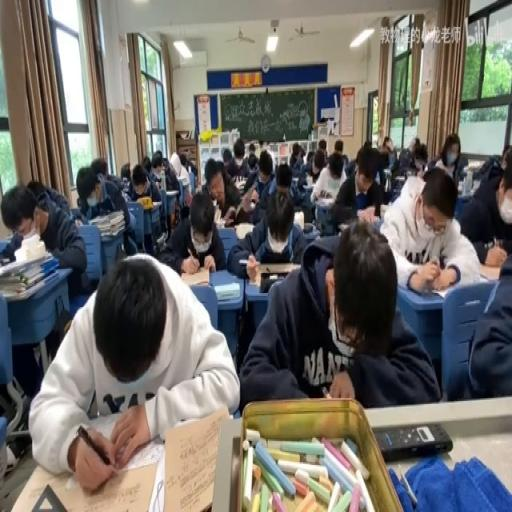calculator: (16, 456, 156, 512), (85, 407, 162, 469), (245, 259, 299, 289), (145, 448, 164, 512), (428, 276, 474, 297), (180, 266, 210, 286), (213, 282, 241, 300), (478, 262, 502, 282), (234, 222, 252, 240), (0, 236, 13, 256), (234, 175, 246, 192), (293, 210, 303, 230), (468, 180, 480, 194), (213, 205, 222, 222), (176, 174, 189, 184), (150, 198, 162, 206), (166, 189, 178, 196), (305, 176, 313, 186), (394, 174, 406, 180), (74, 216, 82, 225), (290, 176, 298, 184), (238, 258, 249, 263)
paper: (30, 250, 238, 488), (242, 218, 436, 406), (381, 164, 481, 288), (1, 178, 86, 300), (454, 245, 512, 401), (228, 181, 309, 273), (76, 160, 134, 264), (161, 189, 224, 276), (338, 142, 386, 229), (126, 161, 164, 239), (310, 145, 348, 208), (428, 132, 462, 181), (223, 138, 251, 181), (472, 154, 502, 180), (385, 142, 403, 182), (234, 192, 256, 222), (273, 159, 291, 191), (290, 141, 306, 176), (411, 142, 427, 171), (26, 179, 46, 202), (258, 151, 274, 179), (90, 156, 108, 180), (150, 148, 164, 176), (352, 146, 363, 178), (120, 162, 130, 189), (500, 148, 510, 175), (246, 152, 258, 174), (187, 158, 197, 179), (142, 154, 152, 172), (178, 152, 187, 172), (382, 136, 392, 154), (120, 184, 130, 200), (334, 138, 343, 155), (260, 141, 270, 156), (318, 138, 326, 155), (306, 149, 314, 165), (342, 154, 348, 169), (162, 156, 168, 170), (299, 152, 304, 161)
person: (374, 422, 451, 461), (338, 222, 354, 232), (302, 222, 313, 232), (0, 256, 10, 266)
